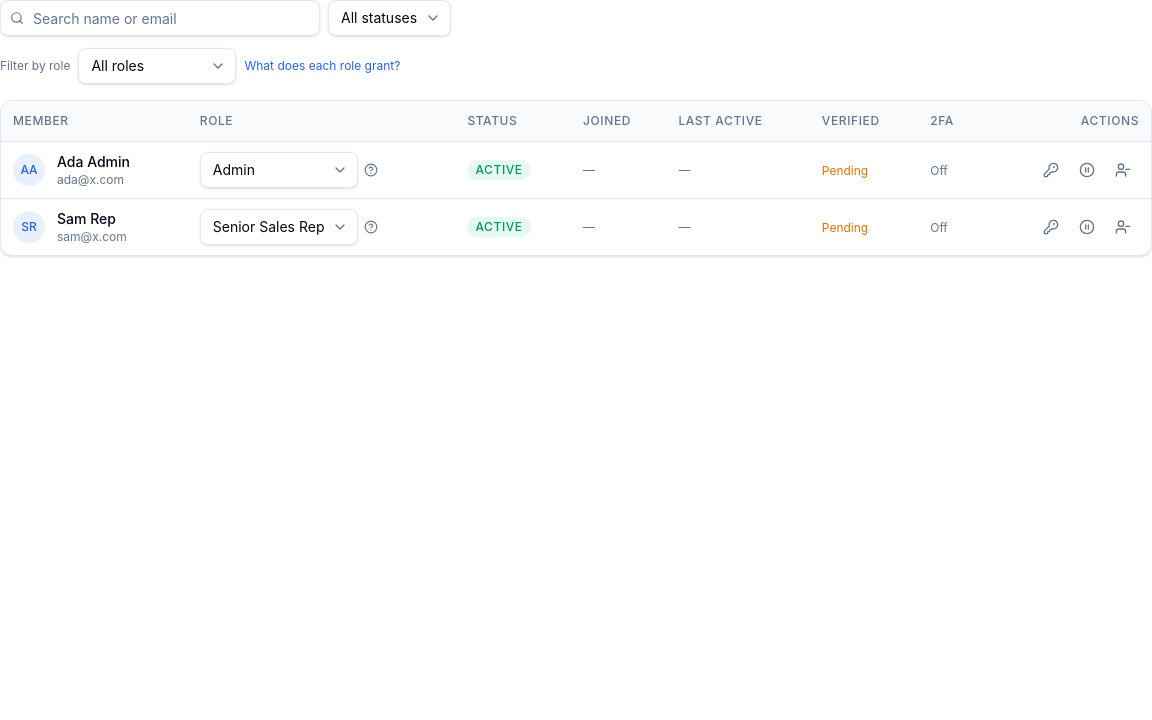
Test case: MembersList — lead-routing disclosure on removal › includes custom-object records in the dialog counts
The image size is (1152, 720).
Click the button titled "Remove Member" in the row of "sam@x.com": (1123, 226) [1107,210,1139,242]
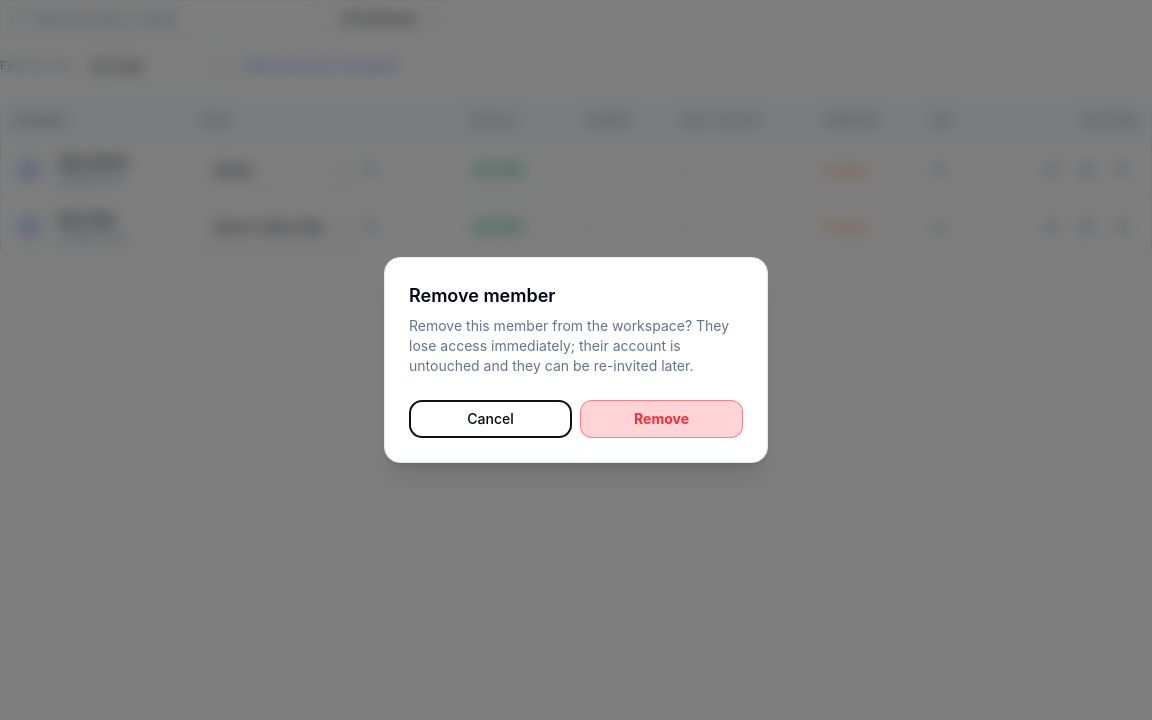
Click the button "Remove": (662, 419) [580,400,743,438]
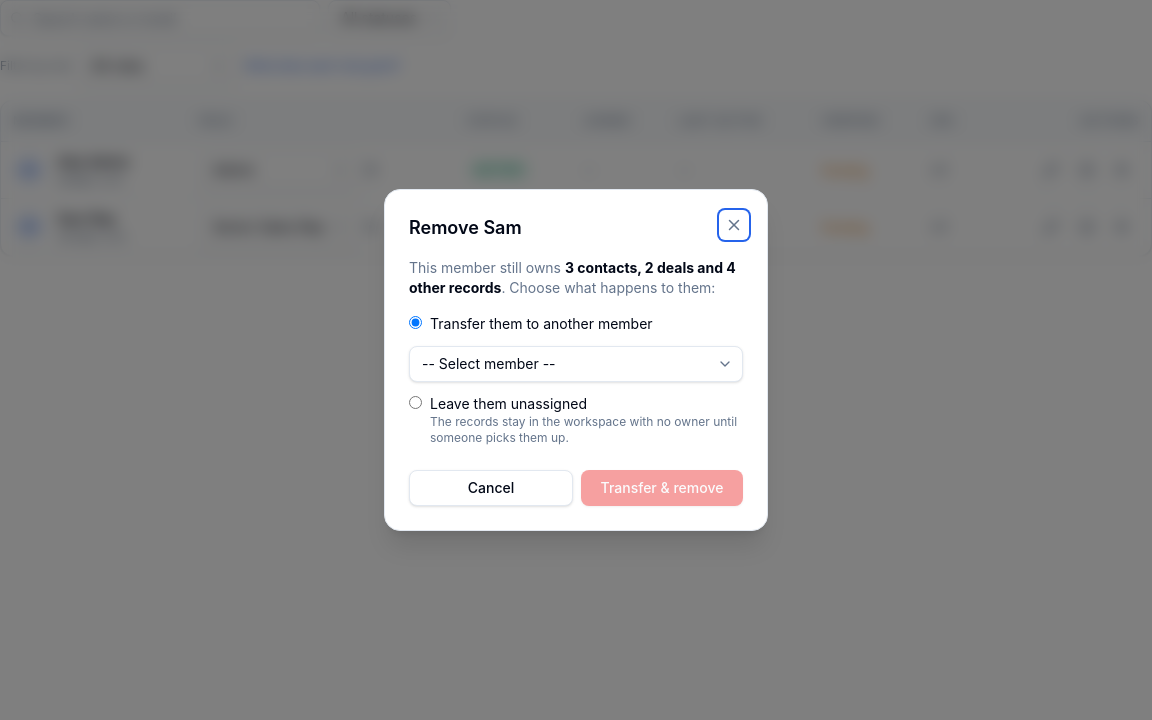
Now the text "3 contacts, 2 deals and 4 other records" is shown, box [409,259,736,296]
